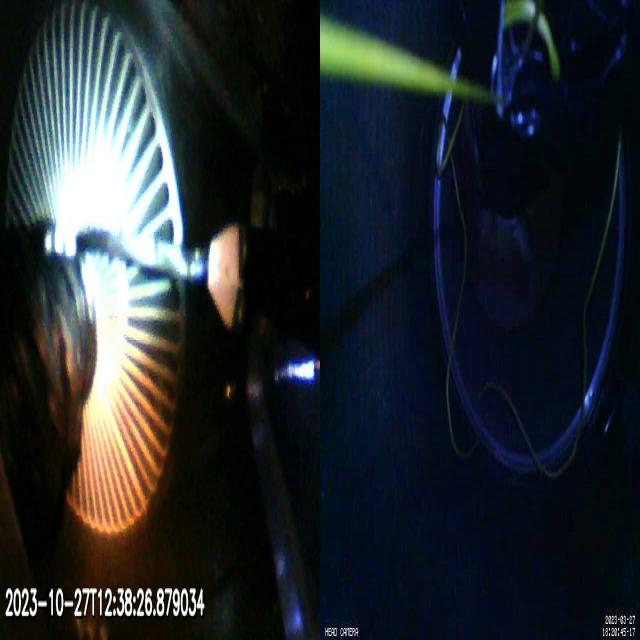head: (208, 226, 268, 330)
white-dots: (43, 216, 76, 257)
